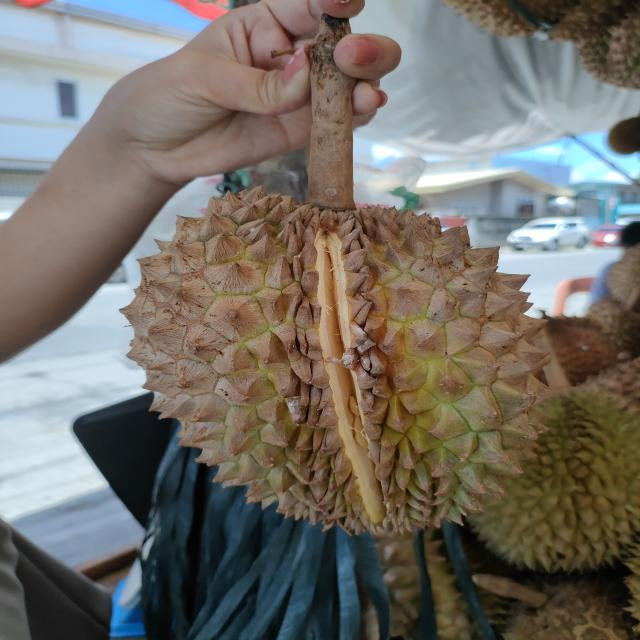defective: (113, 184, 558, 544)
